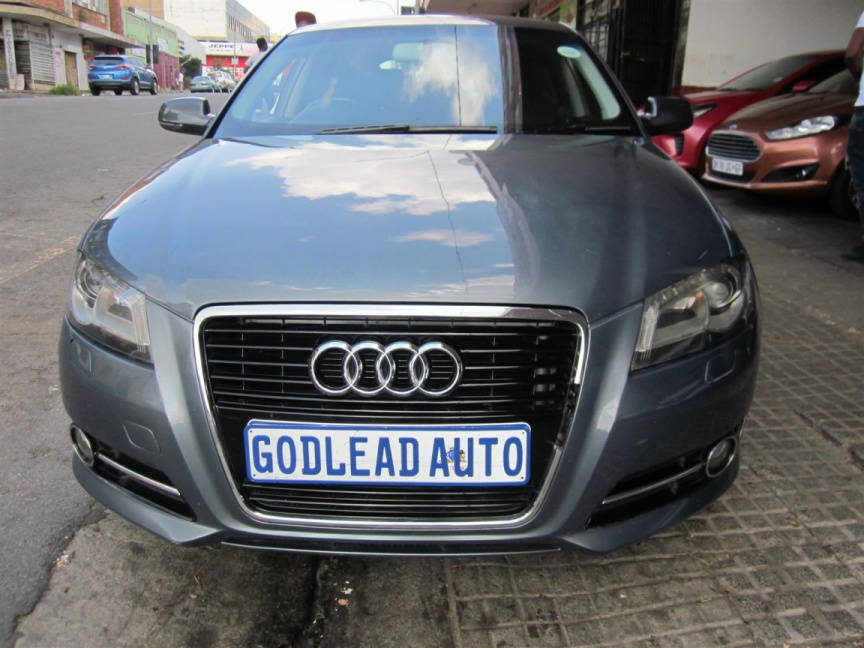audi: (298, 329, 469, 402)
